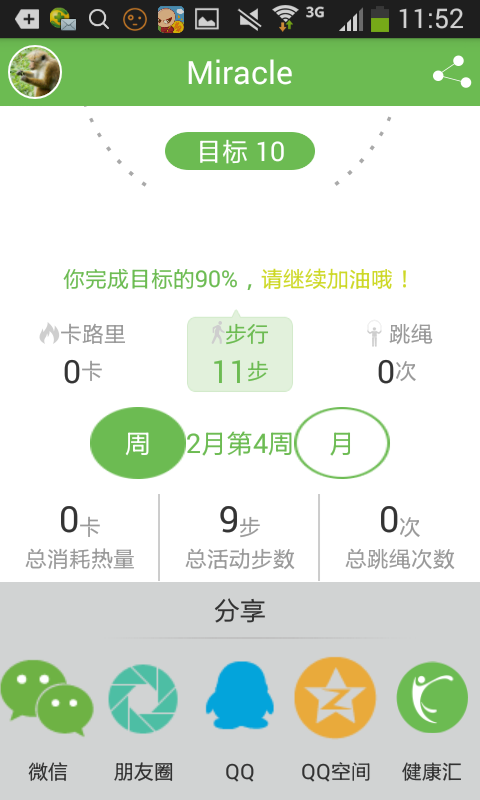textview: (170, 50, 307, 97)
